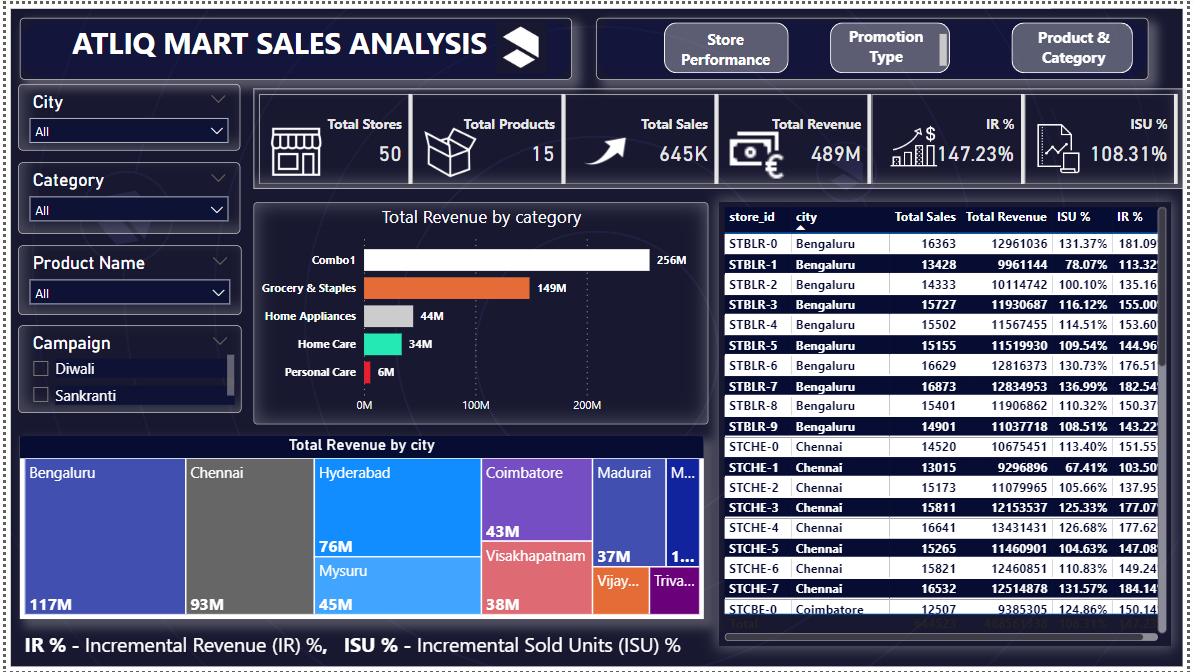

This screenshot's page, from the dashboard's own definition file:
{"tool":"powerbi","page":{"name":"Overview","canvas":[1280,723],"ordinal":0},"visuals":[{"type":"textbox","box":[66,34,504,96],"z":0},{"type":"image","box":[0,0,1280.7,722.8],"z":1000},{"type":"shape","box":[14.8,14.8,598.1,66.7],"z":2000},{"type":"textbox","box":[66.7,15,491.7,63.3],"z":3000},{"type":"slicer","fields":{"Values":["dim_stores.city"]},"box":[14,86,240.4,71.9],"z":4000},{"type":"slicer","fields":{"Values":["dim_products.category"]},"box":[14,171.9,240.4,77.2],"z":5000},{"type":"slicer","fields":{"Values":["dim_products.category"]},"box":[14,261.4,242.1,75.4],"z":6000},{"type":"slicer","fields":{"Values":["fact_events.Campaign"]},"box":[14,349.1,242.1,94.7],"z":7000},{"type":"image","box":[525.9,9.3,64.8,74.1],"z":8000},{"type":"image","box":[1122.2,0,157.4,157.4],"z":9000},{"type":"cardVisual","fields":{"Data":["Key Measures.Total Stores","Key Measures.Total Products","Key Measures.Total Sales","Key Measures.Total Revenue","Key Measures.IR %","Key Measures.ISU %"]},"box":[268.4,91.2,1010.5,108.8],"z":10000},{"type":"clusteredBarChart","fields":{"Category":["dim_products.category"],"Y":["Key Measures.Total Revenue"]},"box":[268.4,215.8,493,240.4],"z":11000},{"type":"tableEx","fields":{"Values":["fact_events.store_id","dim_stores.city","Key Measures.Total Sales","Key Measures.Total Revenue","Key Measures.ISU %","Key Measures.IR %"]},"box":[773.7,215.8,489.5,480.7],"z":12000},{"type":"treemap","fields":{"Values":["Key Measures.Total Revenue"],"Group":["dim_stores.city"]},"box":[15,468.3,741.7,198.3],"z":13000},{"type":"image","box":[273.7,121.1,82.4,71.9],"z":14000},{"type":"image","box":[449.1,122.8,66.7,75.4],"z":15000},{"type":"image","box":[612.3,119.3,78.9,78.9],"z":16000},{"type":"image","box":[773.7,117.5,75.4,77.2],"z":17000},{"type":"image","box":[1101.8,117.5,70.2,70.2],"z":18000},{"type":"image","box":[950,115,68.3,78.3],"z":19000},{"type":"textbox","box":[15,675,945,41.7],"z":20000},{"type":"shape","box":[640,15,598.3,66.7],"z":21000},{"type":"shape","box":[713.3,20,135,55],"z":22000},{"type":"textbox","box":[713.3,21.7,133.3,56.7],"z":23000},{"type":"shape","box":[893.3,20,130,55],"z":24000},{"type":"shape","box":[1090,20,131.7,55],"z":25000},{"type":"textbox","box":[893.3,30,133.3,48.3],"z":26000},{"type":"textbox","box":[1085,20,145,55],"z":27000}]}

Visuals, with their boxes in screenshot pixels (x1, y1, x2, y2), scaled from the page's 1280x723 canvas onto the 1193x672 screenshot:
textbox: x1=62, y1=32, x2=531, y2=121
image: x1=0, y1=0, x2=1192, y2=671
shape: x1=14, y1=14, x2=571, y2=76
textbox: x1=62, y1=14, x2=520, y2=73
slicer - dim_stores.city: x1=13, y1=80, x2=237, y2=147
slicer - dim_products.category: x1=13, y1=160, x2=237, y2=232
slicer - dim_products.category: x1=13, y1=243, x2=239, y2=313
slicer - fact_events.Campaign: x1=13, y1=324, x2=239, y2=412
image: x1=490, y1=9, x2=551, y2=78
image: x1=1046, y1=0, x2=1192, y2=146
cardVisual - Key Measures.Total Stores x Key Measures.Total Products: x1=250, y1=85, x2=1192, y2=186
clusteredBarChart - dim_products.category x Key Measures.Total Revenue: x1=250, y1=201, x2=710, y2=424
tableEx - fact_events.store_id x dim_stores.city: x1=721, y1=201, x2=1177, y2=647
treemap - Key Measures.Total Revenue x dim_stores.city: x1=14, y1=435, x2=705, y2=620
image: x1=255, y1=113, x2=332, y2=179
image: x1=419, y1=114, x2=481, y2=184
image: x1=571, y1=111, x2=644, y2=184
image: x1=721, y1=109, x2=791, y2=181
image: x1=1027, y1=109, x2=1092, y2=174
image: x1=885, y1=107, x2=949, y2=180
textbox: x1=14, y1=627, x2=895, y2=666
shape: x1=596, y1=14, x2=1154, y2=76
shape: x1=665, y1=19, x2=791, y2=70
textbox: x1=665, y1=20, x2=789, y2=73
shape: x1=833, y1=19, x2=954, y2=70
shape: x1=1016, y1=19, x2=1139, y2=70
textbox: x1=833, y1=28, x2=957, y2=73
textbox: x1=1011, y1=19, x2=1146, y2=70
